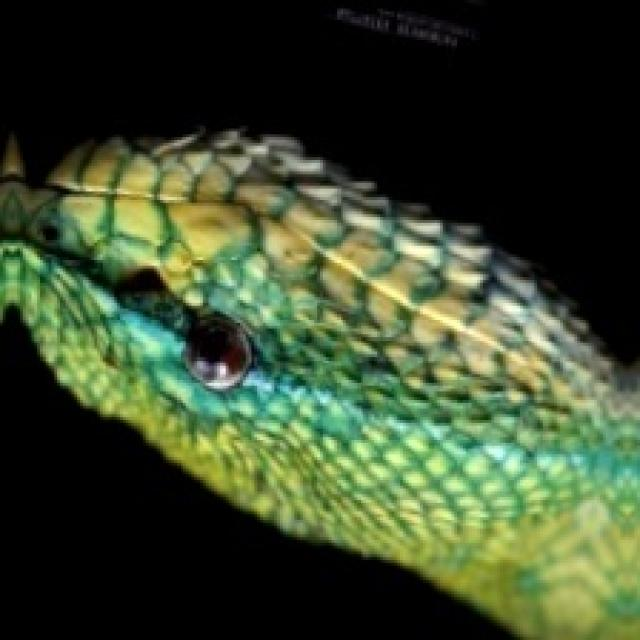north ph temple pitviper: (0, 131, 637, 637)
